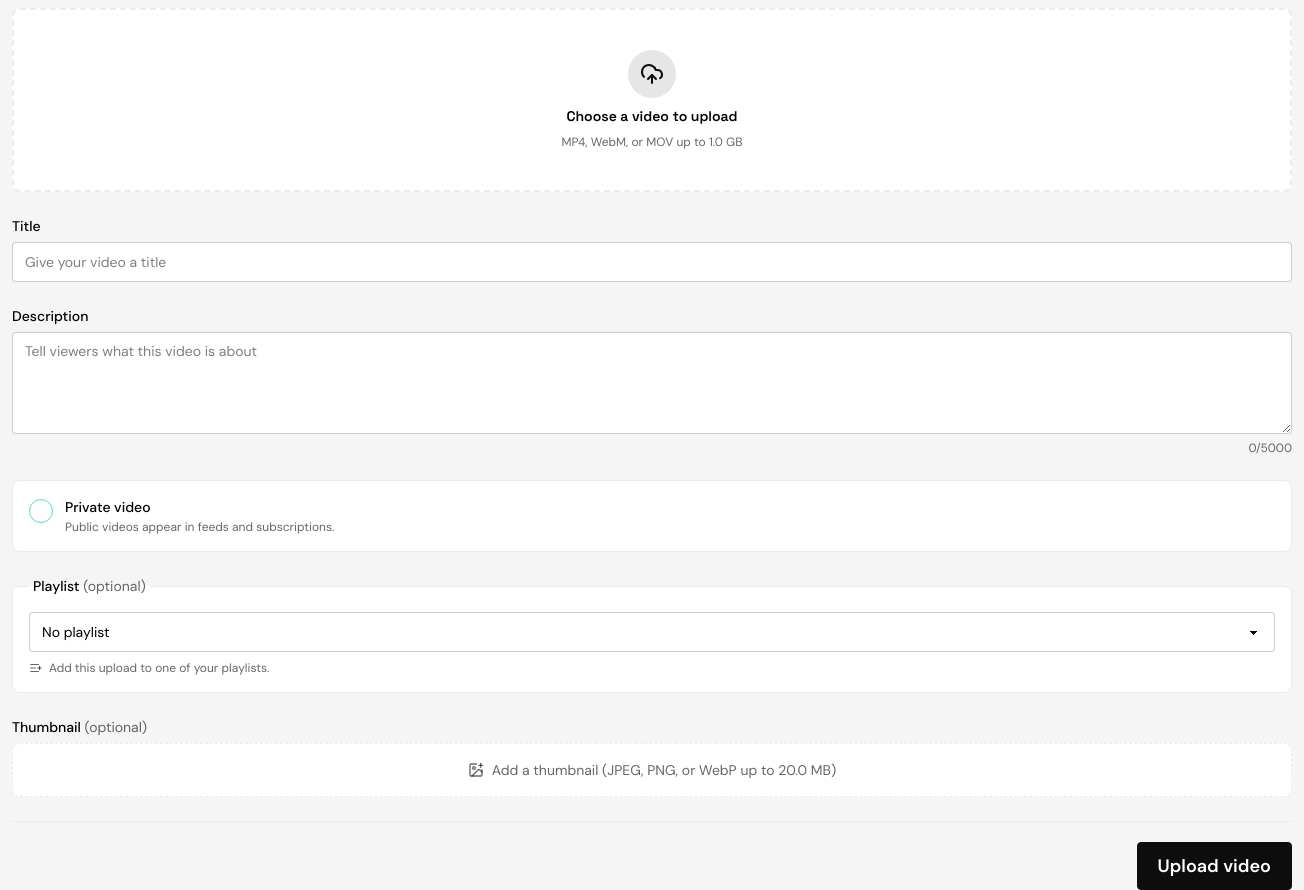
Test case: UploadForm › requires a title and a video before submitting
Click the button "Upload video" at [1214, 866], box [1137,842,1292,889]
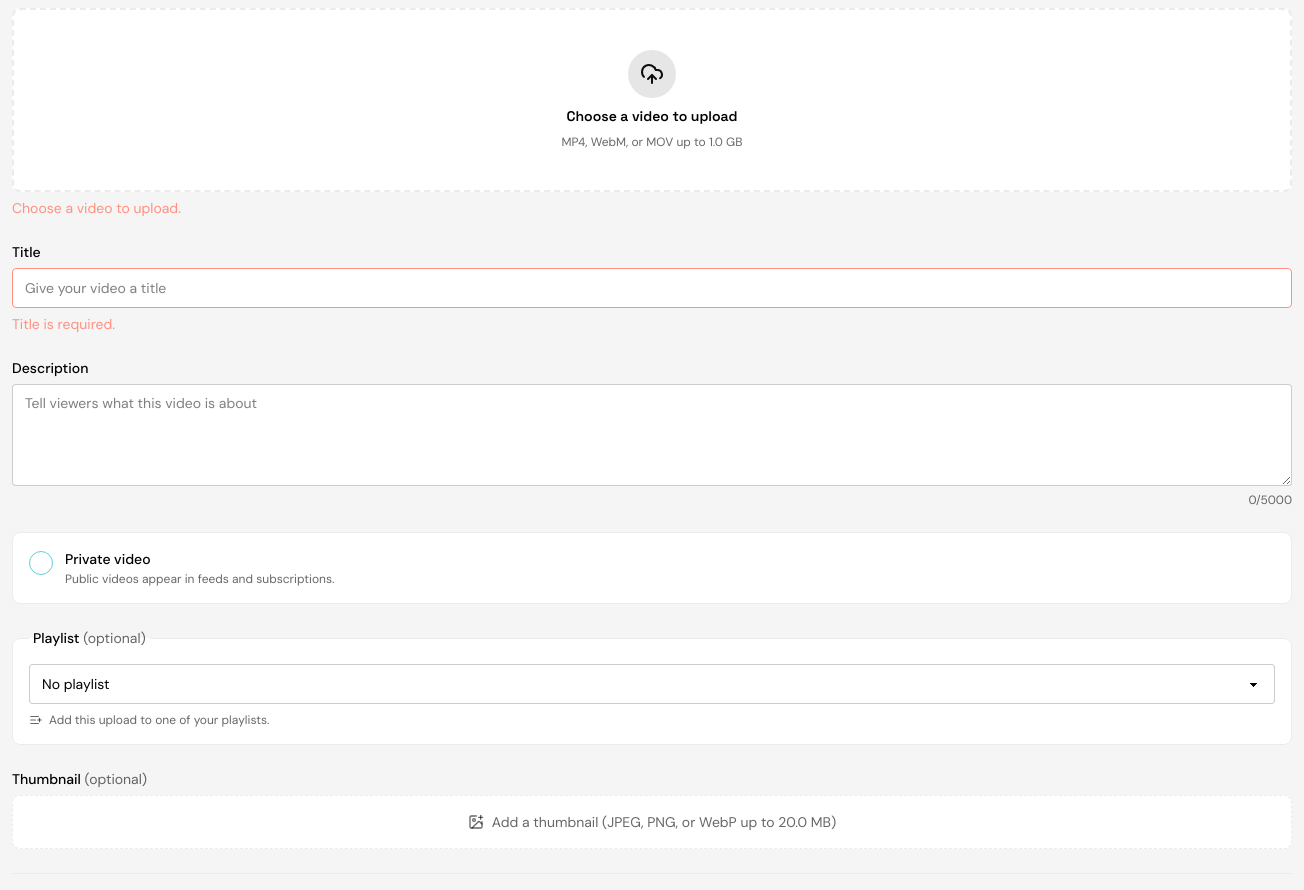
Result: the text "Title is required." is shown at [12,315,115,333]
Result: the text "Choose a video to upload." is shown at [12,199,181,217]
